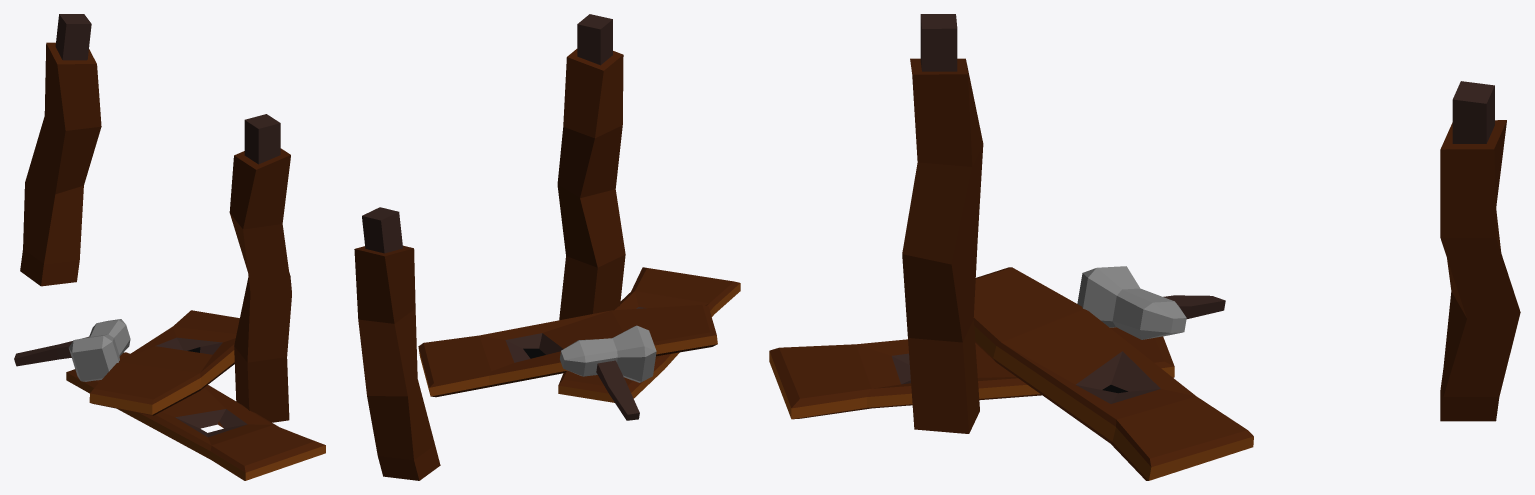
The model's file is BuildZone.fbx.
3 views of the same model, side by side, from view 1: azimuth 30°, elevation 25°; view 2: azimuth 150°, elevation 25°; view 3: azimuth 270°, elevation 25° (orthographic). The views are drawn at different scales.
Parts seen in each view (by area): view 1: BuildZone; view 2: BuildZone; view 3: BuildZone.
Boxes of the visible parts, x1,y1,x2,y2 form: BuildZone: [14, 14, 325, 480]; BuildZone: [354, 14, 740, 480]; BuildZone: [769, 14, 1520, 480].
Bounding box in the file's own units: 56.08 × 66.09 × 112.
